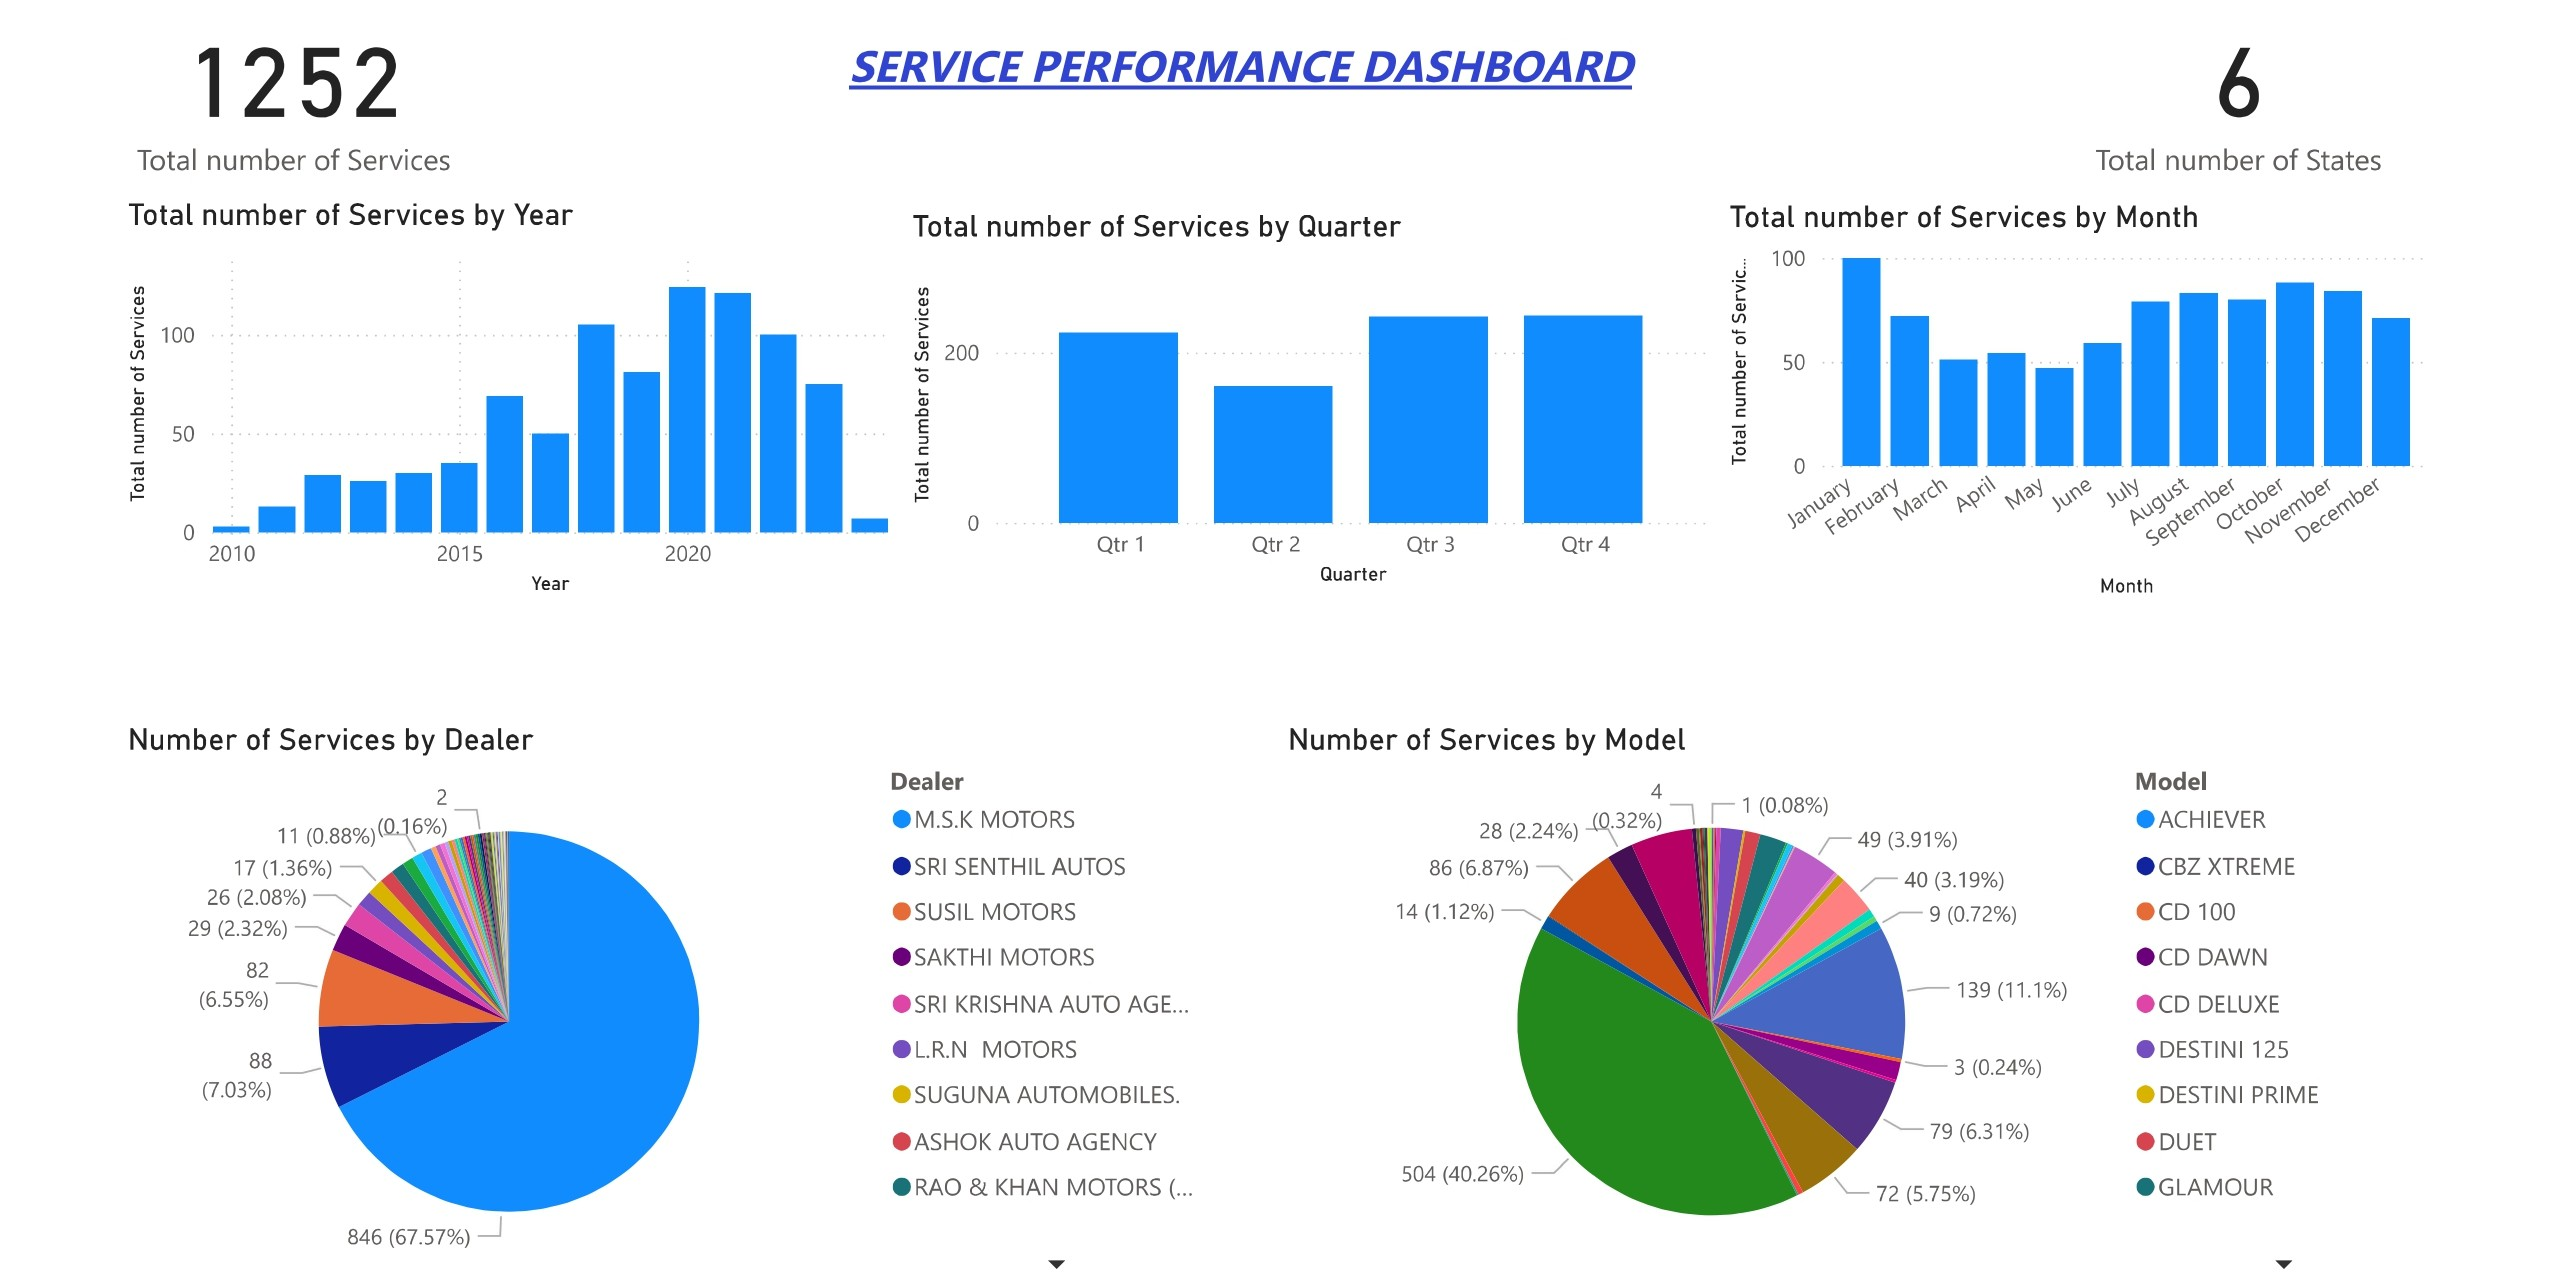

The dashboard page shown, as its layout file describes it:
{"tool":"powerbi","page":{"name":"Service","canvas":[1280,720],"ordinal":0},"visuals":[{"type":"card","fields":{"Values":["CountNonNull(output - 2024-08-12T152346 157.License Number)"]},"box":[0,0,193.3,116.7],"z":0},{"type":"pieChart","fields":{"Category":["output - 2024-08-12T152346 157.Dealer"],"Y":["CountNonNull(output - 2024-08-12T152346 157.License Number)"]},"box":[0,406.7,611.7,313.3],"z":1000},{"type":"pieChart","fields":{"Y":["CountNonNull(output - 2024-08-12T152346 157.License Number)"],"Series":["output - 2024-08-12T152346 157.Model"]},"box":[640,406.7,640,313.3],"z":2000},{"type":"lineStackedColumnComboChart","fields":{"Category":["output - 2024-08-12T152346 157.DC Date.Variation.Date Hierarchy.Month"],"Y":["CountNonNull(output - 2024-08-12T152346 157.License Number)"]},"box":[883.3,118.3,396.7,225],"z":3000},{"type":"lineStackedColumnComboChart","fields":{"Category":["output - 2024-08-12T152346 157.DC Date.Variation.Date Hierarchy.Year"],"Y":["CountNonNull(output - 2024-08-12T152346 157.License Number)"]},"box":[0,116.7,433.3,225],"z":4000},{"type":"lineStackedColumnComboChart","fields":{"Category":["output - 2024-08-12T152346 157.DC Date.Variation.Date Hierarchy.Quarter"],"Y":["CountNonNull(output - 2024-08-12T152346 157.License Number)"]},"box":[433.3,123.3,450,213.3],"z":5000},{"type":"card","fields":{"Values":["Count(output - 2024-08-12T152346 157.State)"]},"box":[1058.3,0,221.7,116.7],"z":6000},{"type":"textbox","box":[398.3,23.3,481.7,68.3],"z":7000}]}

Visuals, with their boxes on the page's 1280x720 design canvas (x1, y1, x2, y2). These are canvas units, not pixel positions in the 2550x1286 screenshot, which may show the page scaled, cropped or inside an application window:
card - CountNonNull(output - 2024-08-12T152346 157.License Number): [left=0, top=0, right=193, bottom=117]
pieChart - output - 2024-08-12T152346 157.Dealer x CountNonNull(output - 2024-08-12T152346 157.License Number): [left=0, top=407, right=612, bottom=720]
pieChart - CountNonNull(output - 2024-08-12T152346 157.License Number) x output - 2024-08-12T152346 157.Model: [left=640, top=407, right=1280, bottom=720]
lineStackedColumnComboChart - output - 2024-08-12T152346 157.DC Date.Variation.Date Hierarchy.Month x CountNonNull(output - 2024-08-12T152346 157.License Number): [left=883, top=118, right=1280, bottom=343]
lineStackedColumnComboChart - output - 2024-08-12T152346 157.DC Date.Variation.Date Hierarchy.Year x CountNonNull(output - 2024-08-12T152346 157.License Number): [left=0, top=117, right=433, bottom=342]
lineStackedColumnComboChart - output - 2024-08-12T152346 157.DC Date.Variation.Date Hierarchy.Quarter x CountNonNull(output - 2024-08-12T152346 157.License Number): [left=433, top=123, right=883, bottom=337]
card - Count(output - 2024-08-12T152346 157.State): [left=1058, top=0, right=1280, bottom=117]
textbox: [left=398, top=23, right=880, bottom=92]
